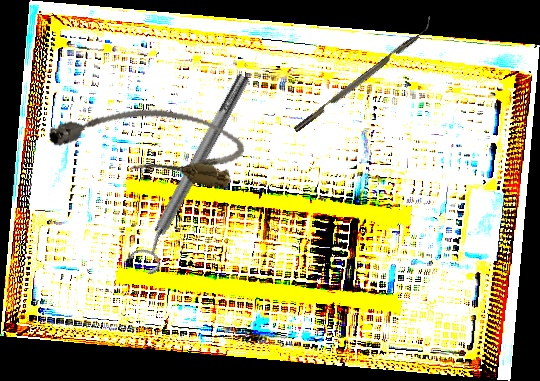Cannula: (43, 88, 249, 192)
Chopper: (288, 15, 438, 133)
Fixation Ring: (124, 68, 261, 278)
